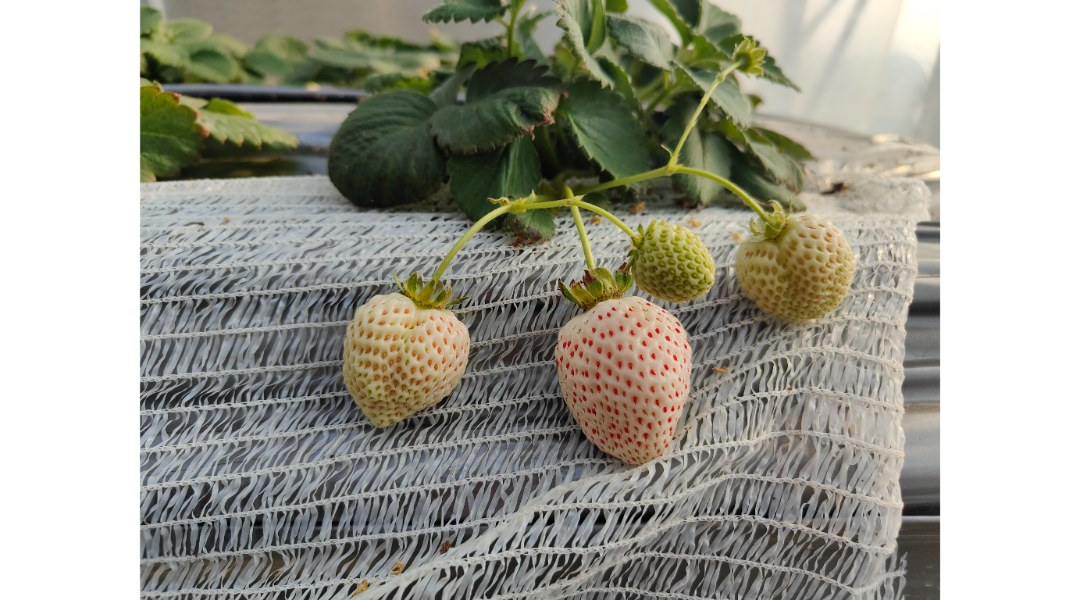berry: (554, 294, 702, 468), (342, 284, 477, 439), (734, 209, 855, 333), (626, 221, 719, 302)
strain: (432, 192, 547, 274), (687, 164, 775, 228), (678, 72, 724, 153), (585, 168, 665, 196), (571, 213, 603, 272)
